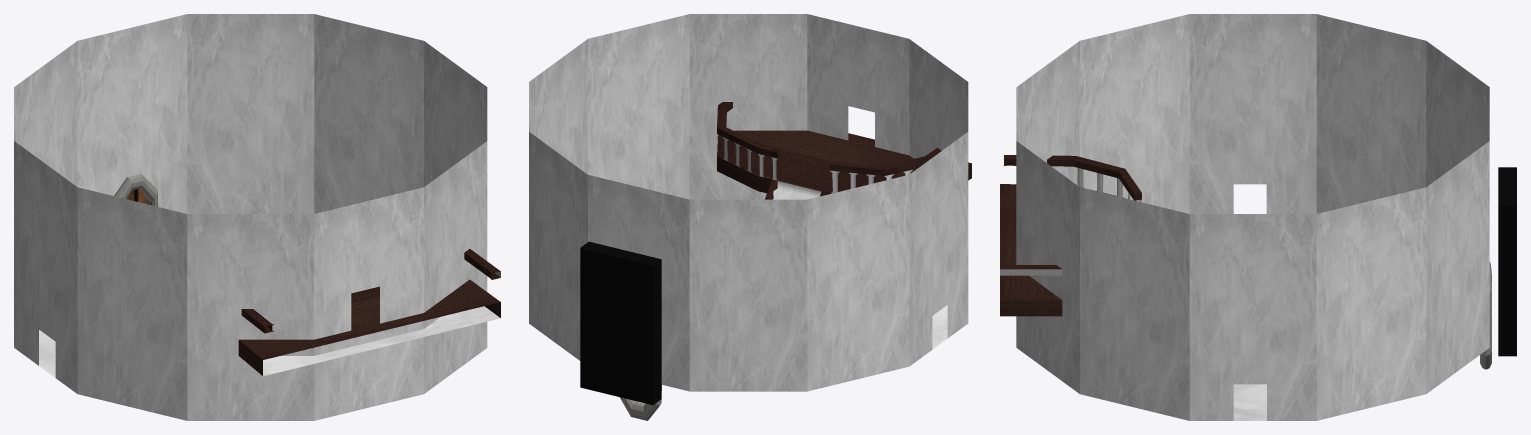
The model's file is newLobby.fbx.
3 renders of one model, left to right at view 1: azimuth 30°, elevation 25°; view 2: azimuth 150°, elevation 25°; view 3: azimuth 270°, elevation 25°, orthographic. The views are drawn at different scales.
Visible parts, largest first — view 1: pDisc2, pCube74, polySurface75, polySurface71; view 2: pDisc2, pCube88, pCube74, polySurface71, polySurface73, pCube73, polySurface75; view 3: pDisc2, pCube88, pCube74, polySurface73, polySurface71.
Boxes of the visible parts, x1,y1,x2,y2 form: pDisc2: (14,14,487,420); pCube74: (238,279,500,376); polySurface75: (114,174,158,206); polySurface71: (464,249,500,279); pDisc2: (529,14,968,391); pCube88: (580,241,661,405); pCube74: (717,130,971,194); polySurface71: (717,102,781,180); polySurface73: (830,147,941,193); pCube73: (765,179,826,199); polySurface75: (620,385,661,420); pDisc2: (1016,14,1489,420); pCube88: (1498,167,1516,356); pCube74: (1000,184,1123,316); polySurface73: (1004,155,1141,201); polySurface71: (1000,264,1062,275).
Bounding box in the file's own units: 87.94 × 51.56 × 96.01.
7 materials, 5 textured.
